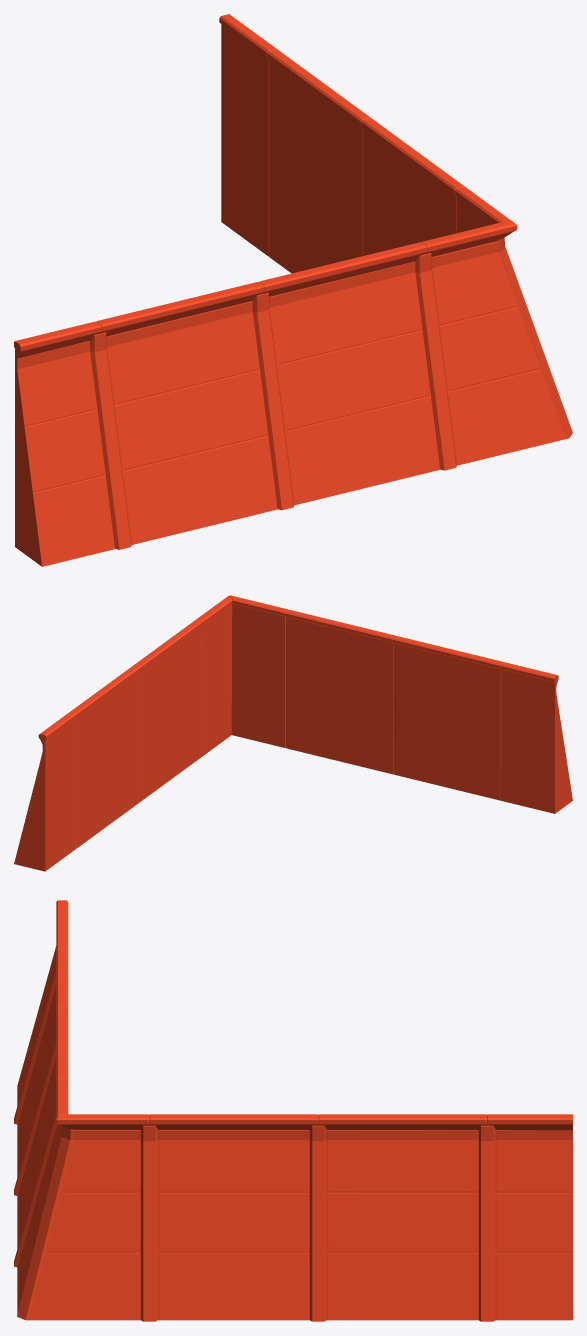
Rendered from SM_Wall_Corner_Outer_Long_City.fbx.
3 renders of one model, top to bottom at view 1: azimuth 30°, elevation 25°; view 2: azimuth 150°, elevation 25°; view 3: azimuth 270°, elevation 25°, orthographic. The views are drawn at different scales.
Visible parts, largest first — view 1: SM_Wall_Corner_Outer_Long_City; view 2: SM_Wall_Corner_Outer_Long_City; view 3: SM_Wall_Corner_Outer_Long_City.
Boxes of the visible parts, left/top/right/bottom form: SM_Wall_Corner_Outer_Long_City: left=14, top=14, right=572, bottom=566; SM_Wall_Corner_Outer_Long_City: left=14, top=595, right=572, bottom=871; SM_Wall_Corner_Outer_Long_City: left=14, top=900, right=572, bottom=1321.
Size of the model in its own units: 33.1 by 12.1 by 33.1.
